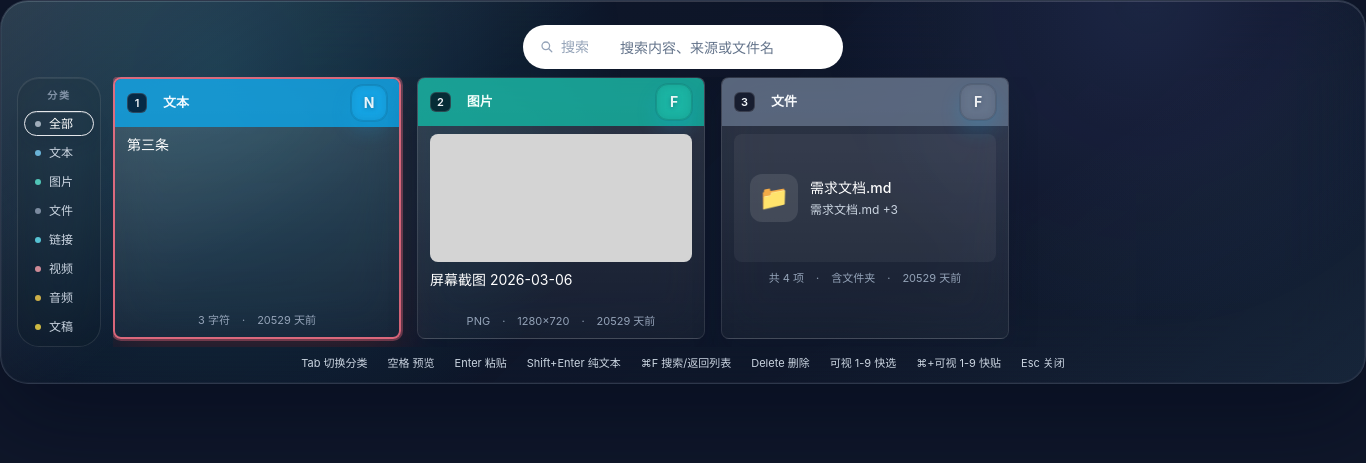
MainPanel › UT-PANEL-016 右键菜单支持删除记录并自动关闭菜单
Right-click the element with test id "file-card": (865, 208) 721,77 -> 1009,338
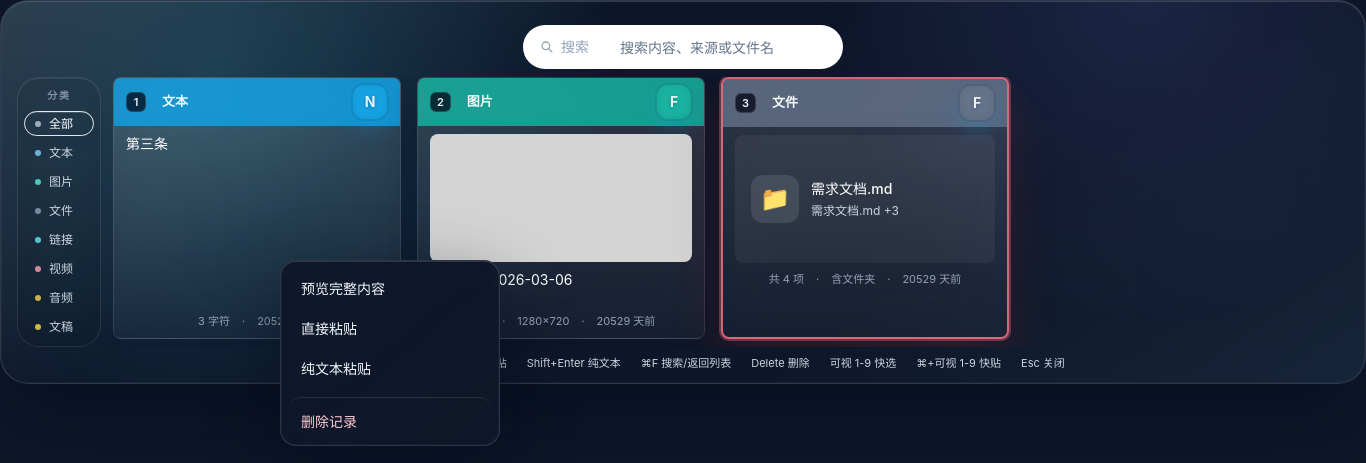
Result: the button with test id "card-context-menu-item-delete" is shown
Click the button with test id "card-context-menu-item-delete": (390, 417) 289,397 -> 491,437
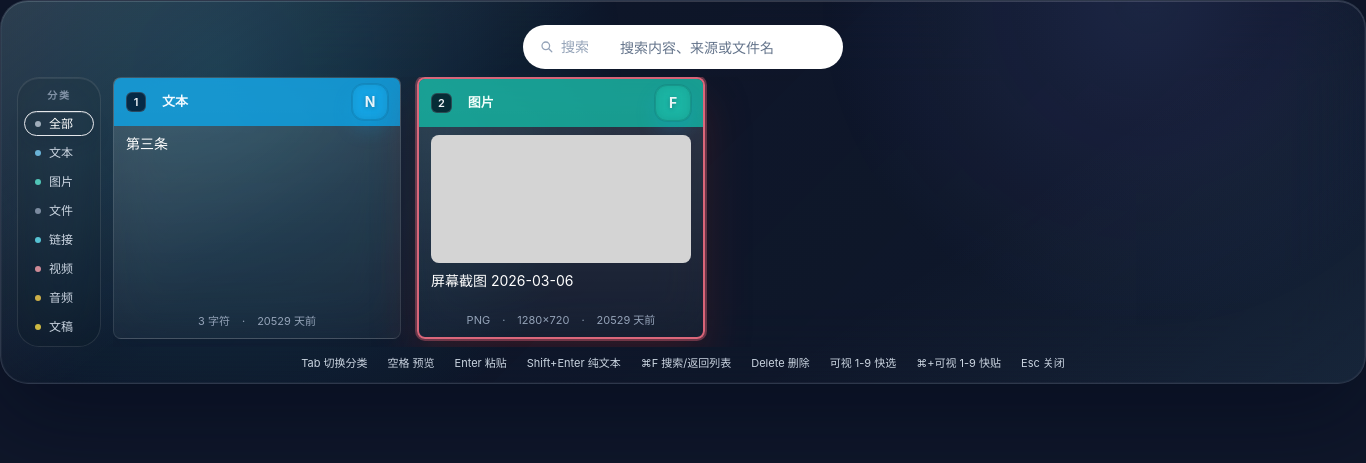
Result: the element with test id "card-context-menu" is gone
